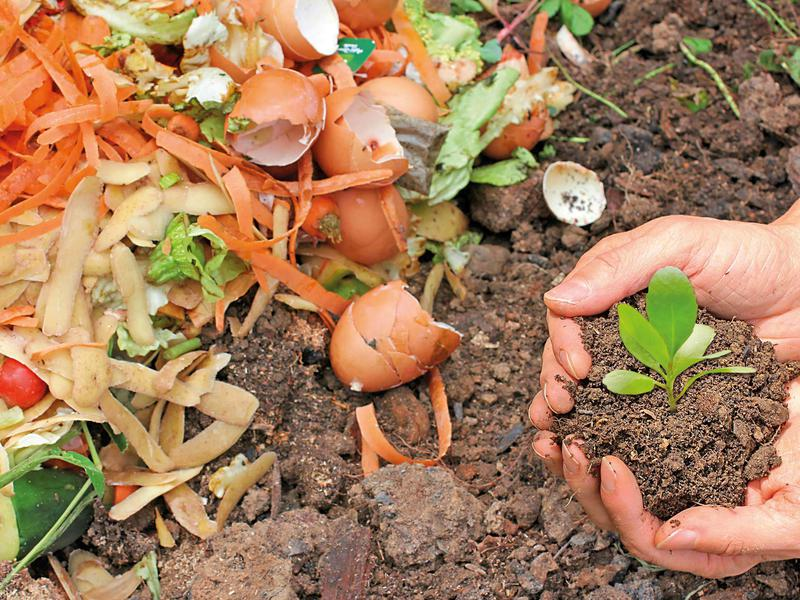vegetation: (1, 1, 588, 568)
